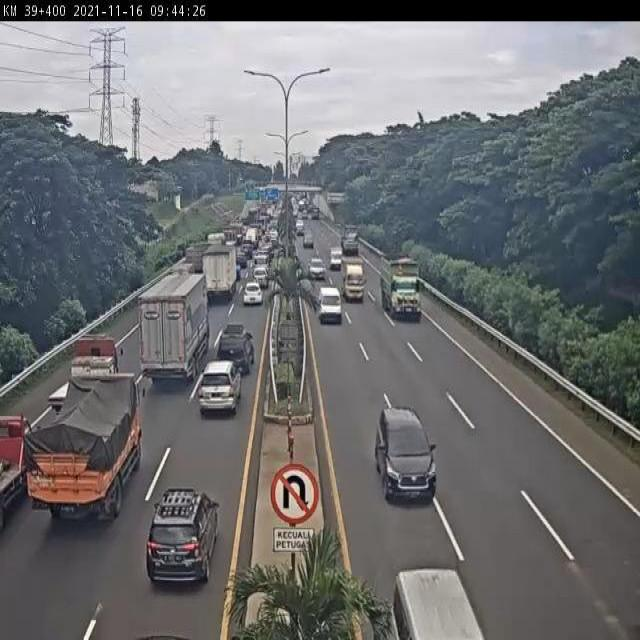car: (140, 478, 224, 590), (382, 558, 486, 640), (375, 394, 444, 514), (198, 354, 240, 418), (214, 323, 257, 380), (315, 285, 341, 328)
truck-l-: (137, 269, 214, 388), (377, 250, 427, 322)
truck-m-: (19, 372, 144, 524), (46, 335, 125, 424), (201, 242, 240, 302), (338, 253, 365, 303)
